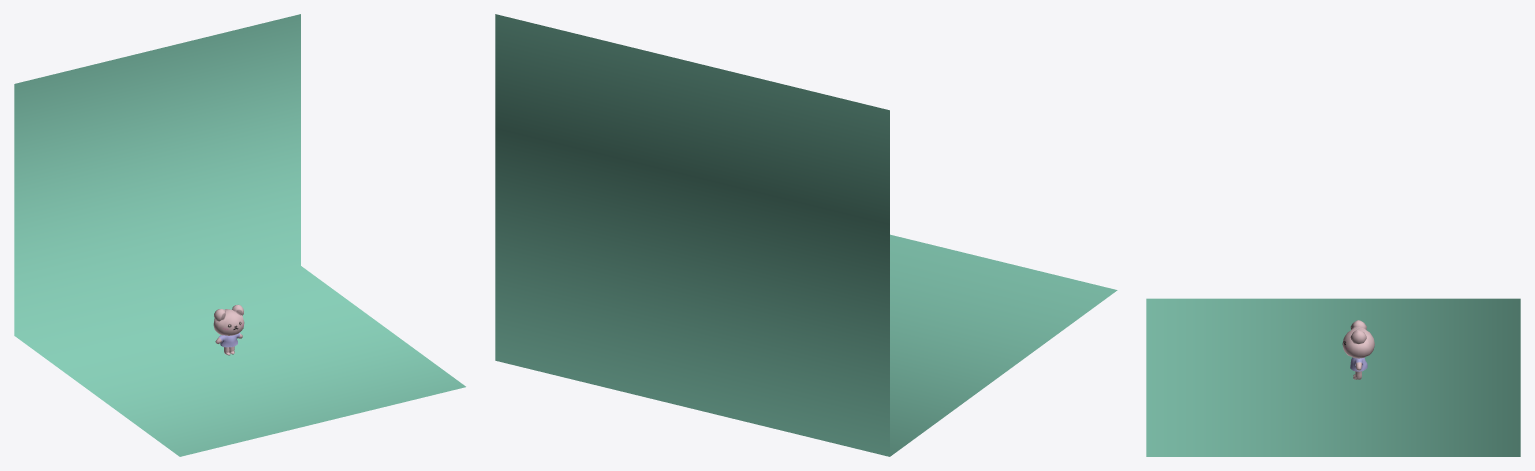
File: Froggy-compressed.glb
The picture shows the model from 3 angles, left to right: view 1: azimuth 30°, elevation 25°; view 2: azimuth 150°, elevation 25°; view 3: azimuth 270°, elevation 25°; orthographic projection. The views are drawn at different scales.
Parts seen in each view (by area): view 1: Plane, head; view 2: Plane; view 3: Plane, head.
Part boxes in pixels (<box>): Plane: <box>14,14,465,456</box>; head: <box>213,304,244,335</box>; Plane: <box>495,14,1117,456</box>; Plane: <box>1146,298,1520,456</box>; head: <box>1342,320,1374,358</box>.
Size of the model in its own units: 23.09 by 19.38 by 23.09.
2 materials, 1 textured.
